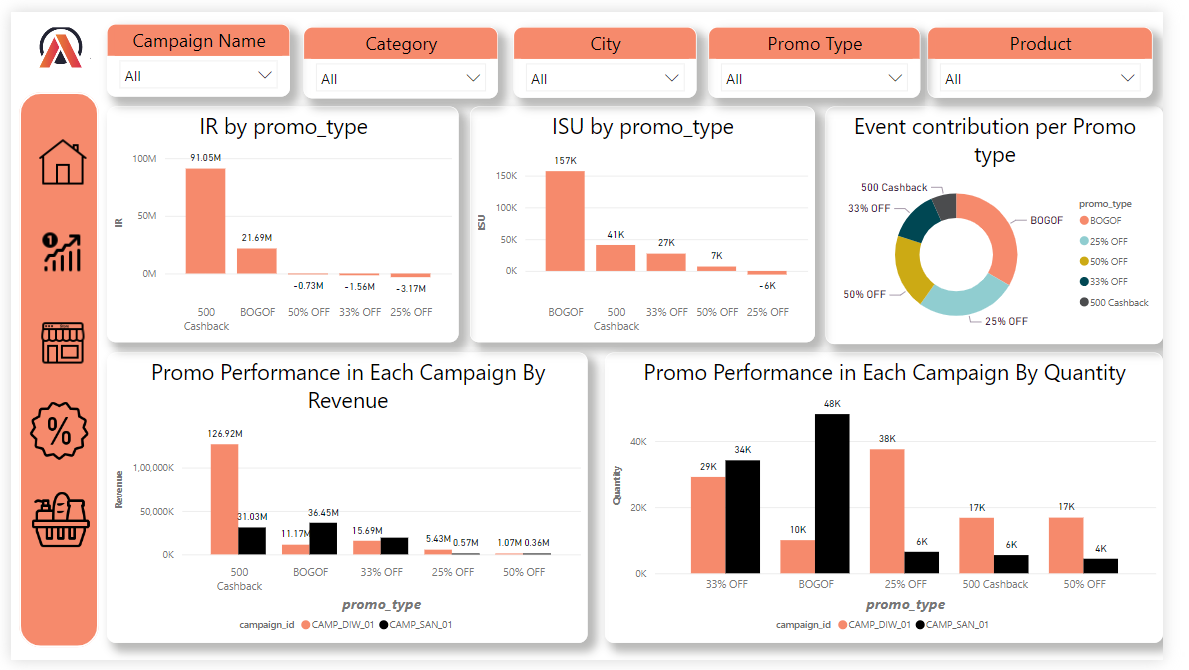

The page's visual inventory and layout, read from the dashboard file:
{"tool":"powerbi","page":{"name":"Promotional Analysis","canvas":[1280,720],"ordinal":3},"visuals":[{"type":"image","box":[11.7,11.7,81.7,55],"z":0},{"type":"slicer","title":"Campaign Name","fields":{"Values":["retail_events_db dim_campaigns.campaign_name"]},"box":[106.5,12.9,203.2,80.6],"z":1000},{"type":"shape","box":[0,80.6,106.7,635],"z":2000},{"type":"slicer","title":"Category","fields":{"Values":["retail_events_db dim_products.category"]},"box":[325.8,16.1,216.1,79],"z":3000},{"type":"image","box":[25,225,65,85],"z":4000},{"type":"image","box":[25,325,65,85],"z":5000},{"type":"slicer","title":"City","fields":{"Values":["retail_events_db dim_stores.city"]},"box":[558.3,16.7,203.3,78.3],"z":6000},{"type":"slicer","title":"Promo Type","fields":{"Values":["retail_events_db fact_events.promo_type"]},"box":[775,16.7,235,78.3],"z":7000},{"type":"image","box":[25,125,65,85],"z":8000},{"type":"image","box":[14,425,80,80],"z":9000},{"type":"clusteredColumnChart","fields":{"Category":["retail_events_db fact_events.promo_type"],"Y":["retail_events_db fact_events.IR"]},"box":[106.5,104.9,391,262.3],"z":10000},{"type":"clusteredColumnChart","fields":{"Category":["retail_events_db fact_events.promo_type"],"Y":["retail_events_db fact_events.ISU"]},"box":[510.2,104.9,383,262.3],"z":11000},{"type":"image","box":[15,525,80,80],"z":12000},{"type":"donutChart","title":"Event contribution per Promo type","fields":{"Category":["retail_events_db fact_events.promo_type"],"Y":["CountNonNull(retail_events_db fact_events.event_id)"]},"box":[904.4,104.9,375.1,263.8],"z":13000},{"type":"clusteredColumnChart","title":"Promo Performance in Each Campaign By Revenue","fields":{"Category":["retail_events_db fact_events.promo_type"],"Series":["retail_events_db fact_events.campaign_id"],"Y":["Sum(retail_events_db fact_events.Revenue_after_promo)"]},"box":[106.5,378.3,534,322.6],"z":14000},{"type":"clusteredColumnChart","title":"Promo Performance in Each Campaign By Quantity","fields":{"Category":["retail_events_db fact_events.promo_type"],"Series":["retail_events_db fact_events.campaign_id"],"Y":["Sum(retail_events_db fact_events.quantity_sold(before_promo))"]},"box":[659.6,378.3,619.9,322.6],"z":15000},{"type":"slicer","title":"Product","fields":{"Values":["retail_events_db dim_products.product_name"]},"box":[1018.3,16.7,250,78.3],"z":16000}]}

Visuals, with their boxes in screenshot pixels (x1, y1, x2, y2), scaled from the page's 1280x720 canvas onto the 1189x670 screenshot:
image: [x1=11, y1=11, x2=87, y2=62]
"Campaign Name" slicer: [x1=99, y1=12, x2=288, y2=87]
shape: [x1=0, y1=75, x2=99, y2=666]
"Category" slicer: [x1=303, y1=15, x2=503, y2=88]
image: [x1=23, y1=209, x2=84, y2=288]
image: [x1=23, y1=302, x2=84, y2=382]
"City" slicer: [x1=519, y1=16, x2=707, y2=88]
"Promo Type" slicer: [x1=720, y1=16, x2=938, y2=88]
image: [x1=23, y1=116, x2=84, y2=195]
image: [x1=13, y1=395, x2=87, y2=470]
clusteredColumnChart - retail_events_db fact_events.promo_type x retail_events_db fact_events.IR: [x1=99, y1=98, x2=462, y2=342]
clusteredColumnChart - retail_events_db fact_events.promo_type x retail_events_db fact_events.ISU: [x1=474, y1=98, x2=830, y2=342]
image: [x1=14, y1=489, x2=88, y2=563]
"Event contribution per Promo type" donutChart: [x1=840, y1=98, x2=1188, y2=343]
"Promo Performance in Each Campaign By Revenue" clusteredColumnChart: [x1=99, y1=352, x2=595, y2=652]
"Promo Performance in Each Campaign By Quantity" clusteredColumnChart: [x1=613, y1=352, x2=1188, y2=652]
"Product" slicer: [x1=946, y1=16, x2=1178, y2=88]
